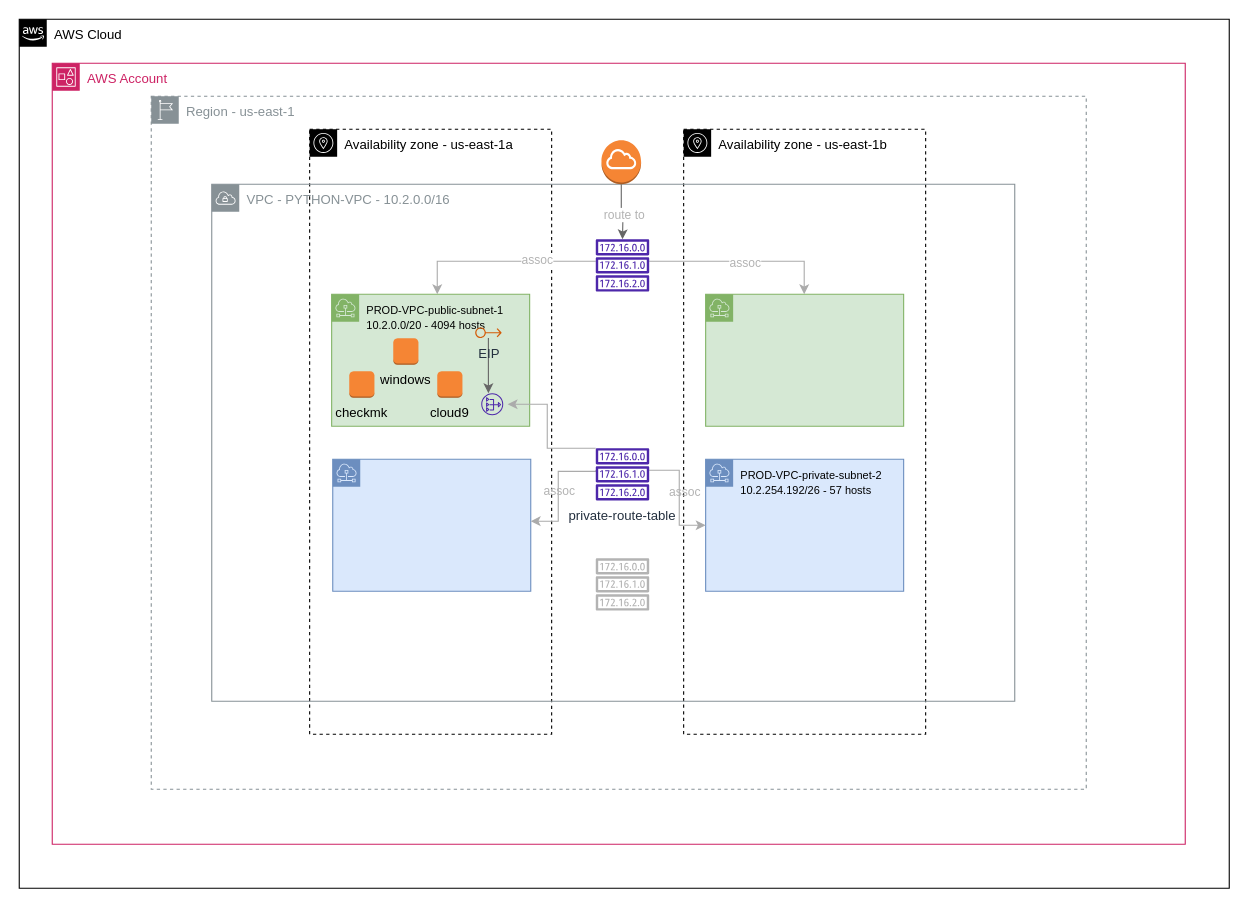
Image size: 1249x908. Some labels were removed from this diagram. The centre of each missing label's shape, as x and y in pixels:
"IGW" goes at point 620,161.
"main-rt (not in use)" goes at point 622,584.
"NGW" goes at point 492,404.
"PROD-VPC-private-subnet-1 10.2.254.128/26 - 57 hosts" goes at point 431,524.
"PROD-VPC-public-subnet-2 10.2.16.0/26 - 4094 hosts" goes at point 804,359.
"public-route-table" goes at point 622,265.
